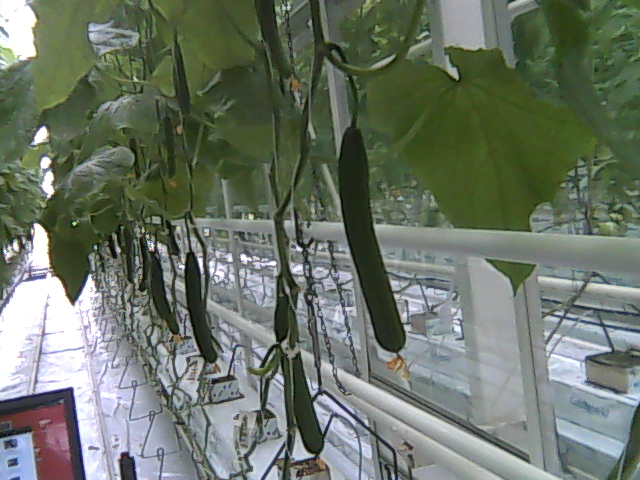concombre: (337, 121, 413, 380), (271, 289, 326, 459)
